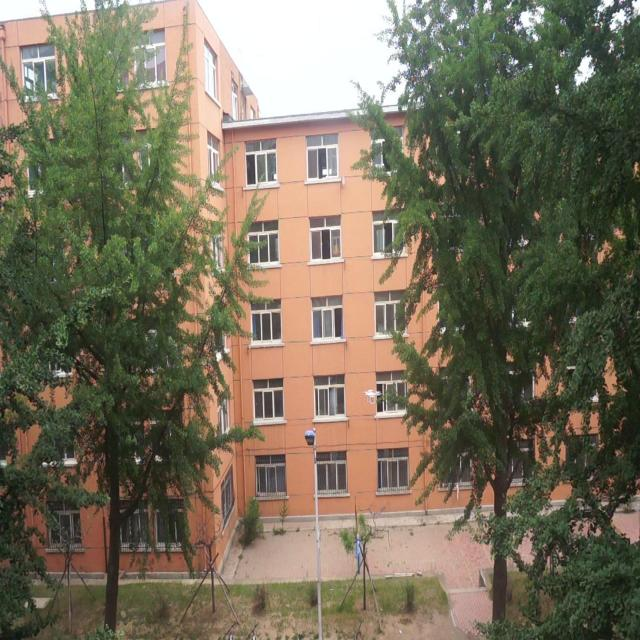UAV: (363, 388, 382, 404)
